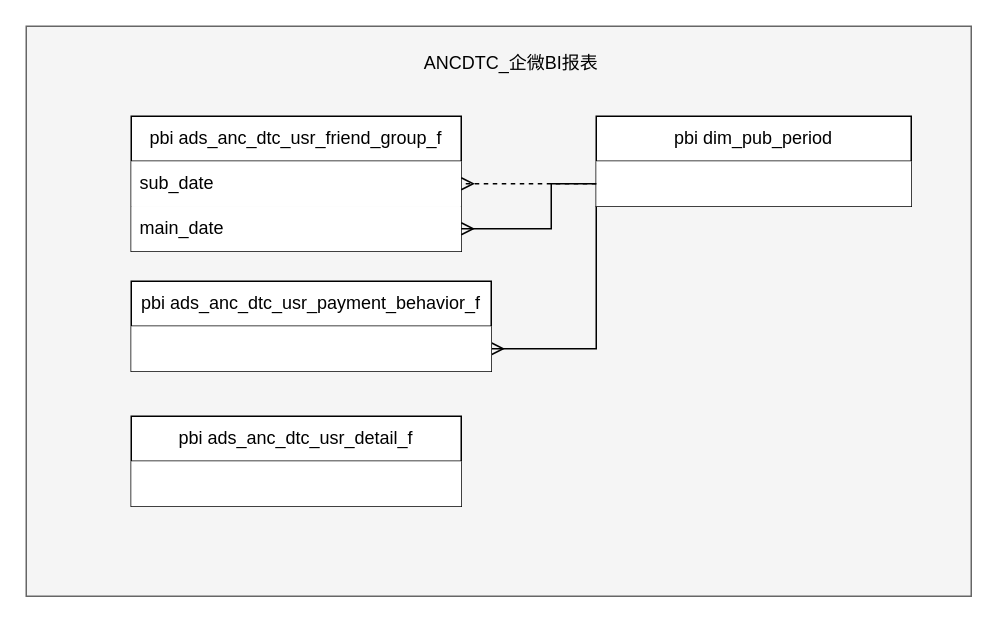
The diagram is 998 pixels wide and 623 high, and some of its shapes have lost their labels. The shapes that lost their labels are listed below. From the top down, each one's centre as x and y in pixels, then its label:
At (x=753, y=183): "date_dt".
At (x=310, y=348): "pay_date".
